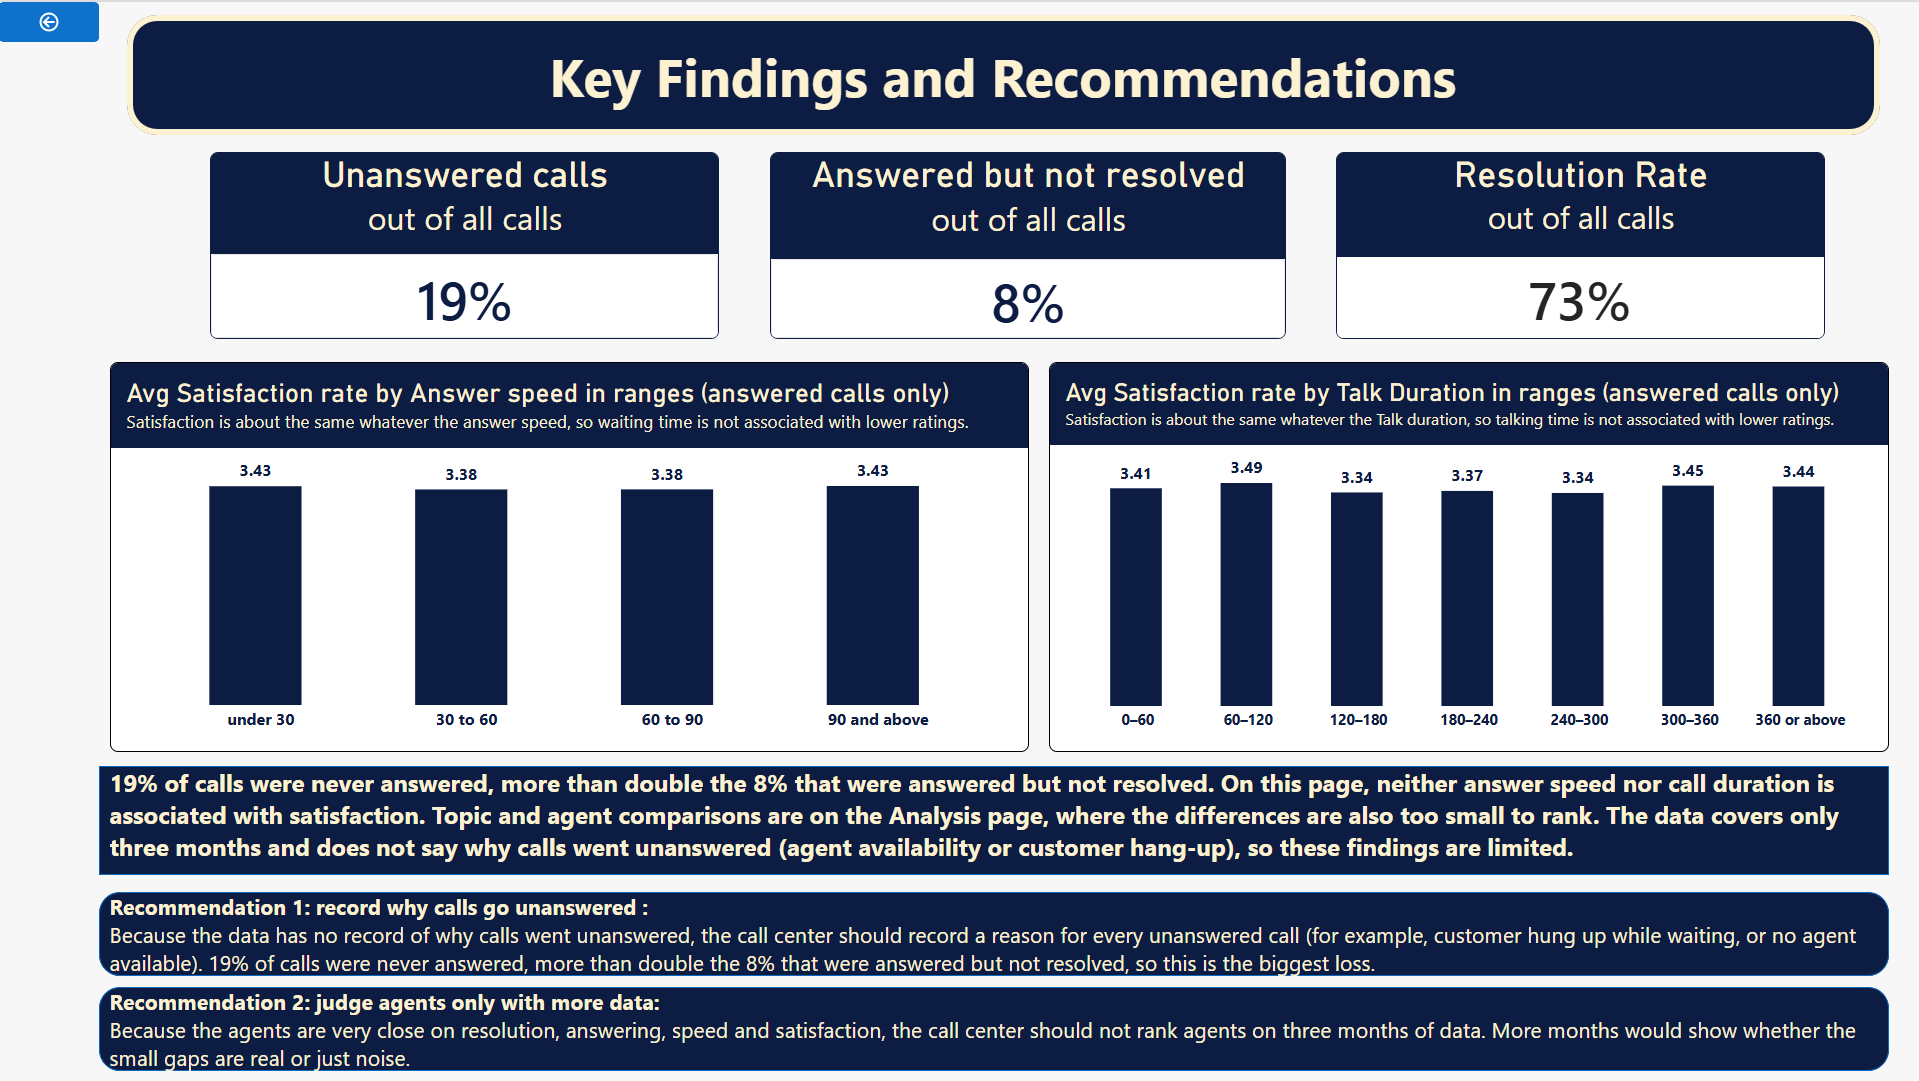

This screenshot's page, from the dashboard's own definition file:
{"tool":"powerbi","page":{"name":"Why?","canvas":[1920,1080],"ordinal":3},"visuals":[{"type":"actionButton","box":[0,0,100,40],"z":0},{"type":"cardVisual","title":"Unanswered calls","fields":{"Data":["Sheet1.Unawnserd calls"]},"box":[210.9,149.8,508.7,186.8],"z":1000},{"type":"cardVisual","title":"Answered but not resolved","fields":{"Data":["Sheet1.Answered but not resolved"]},"box":[771.3,149.8,516.1,186.8],"z":2000},{"type":"cardVisual","title":"Resolution Rate","fields":{"Data":["Sheet1.Resolution Rate"]},"box":[1337.3,149.8,488.3,186.8],"z":3000},{"type":"clusteredColumnChart","title":"Avg Satisfaction rate by Answer speed in ranges (answered calls only)","fields":{"Category":["Sheet1.Answer speed in ranges"],"Y":["Sheet1.Avg Satisfaction rate"]},"box":[111.2,360,918.8,390],"z":4000},{"type":"clusteredColumnChart","title":"Avg Satisfaction rate by Talk Duration in ranges (answered calls only)","fields":{"Category":["Sheet1.Avg Talk Duratiom ranges"],"Y":["Sheet1.Avg Satisfaction rate"]},"box":[1050,360,840,390],"z":5000},{"type":"shape","box":[100,763.8,1790,108.8],"z":6000},{"type":"textbox","box":[111.2,763.8,1758.8,108.8],"z":7000},{"type":"shape","box":[100,890,1790,83.8],"z":8000},{"type":"shape","box":[100,985,1790,83.8],"z":9000},{"type":"textbox","box":[111.2,890,1758.8,83.8],"z":10000},{"type":"textbox","box":[111.2,985,1770,83.8],"z":11000},{"type":"shape","box":[127.6,12.9,1753.5,120.2],"z":12000}]}

Visuals, with their boxes in screenshot pixels (x1, y1, x2, y2), scaled from the page's 1920x1080 canvas onto the 1919x1081 screenshot:
actionButton: 0, 0, 100, 40
"Unanswered calls" cardVisual: 211, 150, 719, 337
"Answered but not resolved" cardVisual: 771, 150, 1287, 337
"Resolution Rate" cardVisual: 1337, 150, 1825, 337
"Avg Satisfaction rate by Answer speed in ranges (answered calls only)" clusteredColumnChart: 111, 360, 1029, 751
"Avg Satisfaction rate by Talk Duration in ranges (answered calls only)" clusteredColumnChart: 1049, 360, 1889, 751
shape: 100, 765, 1889, 873
textbox: 111, 765, 1869, 873
shape: 100, 891, 1889, 975
shape: 100, 986, 1889, 1070
textbox: 111, 891, 1869, 975
textbox: 111, 986, 1880, 1070
shape: 128, 13, 1880, 133
